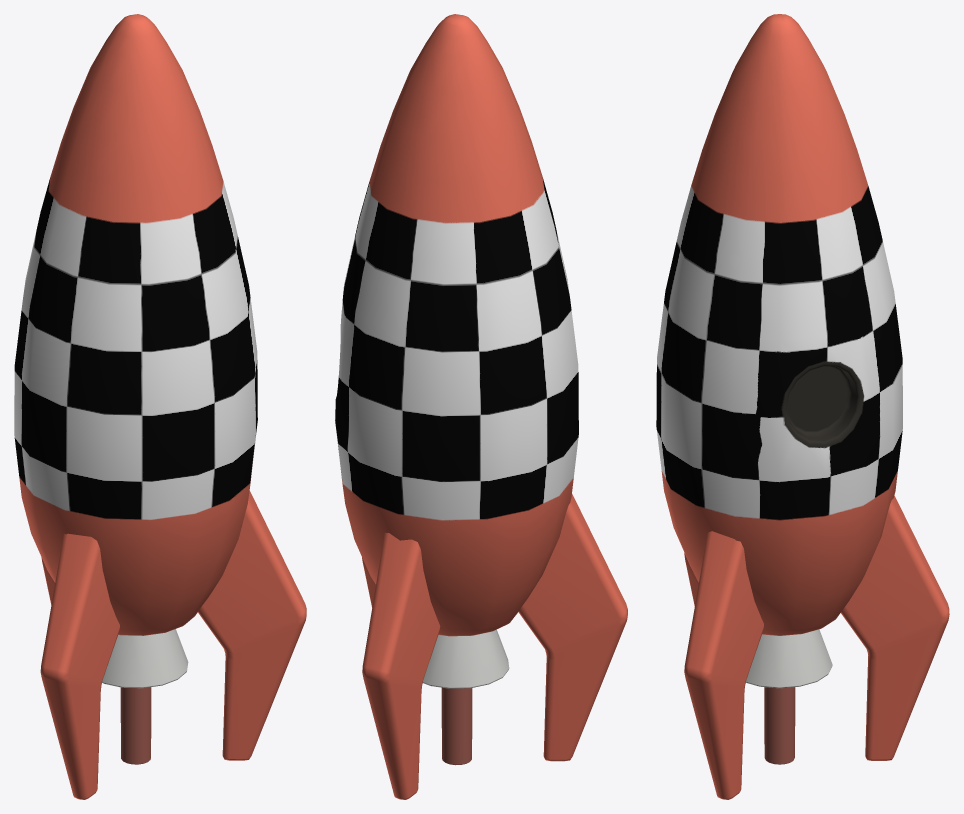
The model's file is prp_toyRocket_model.FBX.
3 renders of one model, left to right at view 1: azimuth 30°, elevation 25°; view 2: azimuth 150°, elevation 25°; view 3: azimuth 270°, elevation 25°, orthographic.
Parts seen in each view (by area): view 1: prp_toyRocket_model; view 2: prp_toyRocket_model; view 3: prp_toyRocket_model.
Part boxes in pixels (x1=…): prp_toyRocket_model: x1=14, y1=14, x2=306, y2=799; prp_toyRocket_model: x1=335, y1=14, x2=627, y2=799; prp_toyRocket_model: x1=656, y1=14, x2=949, y2=799.
Size of what is drawn, in the model's own units: 11.48 by 11.05 by 30.86.
